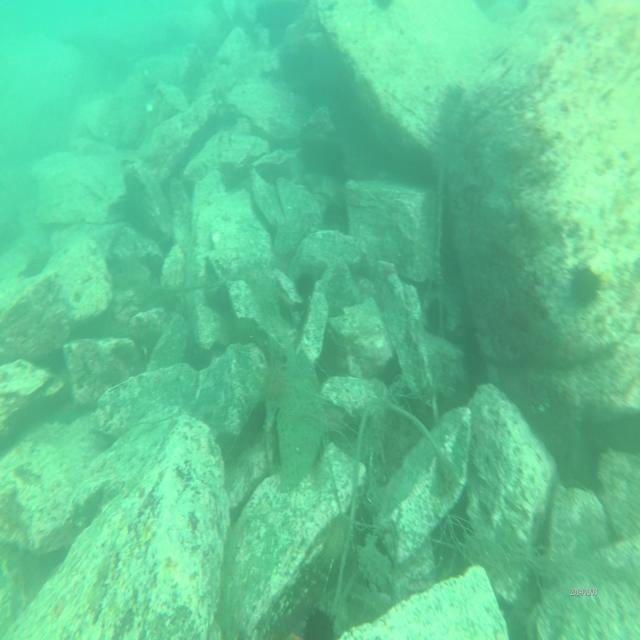echinus: (571, 264, 601, 309), (301, 607, 335, 640)
